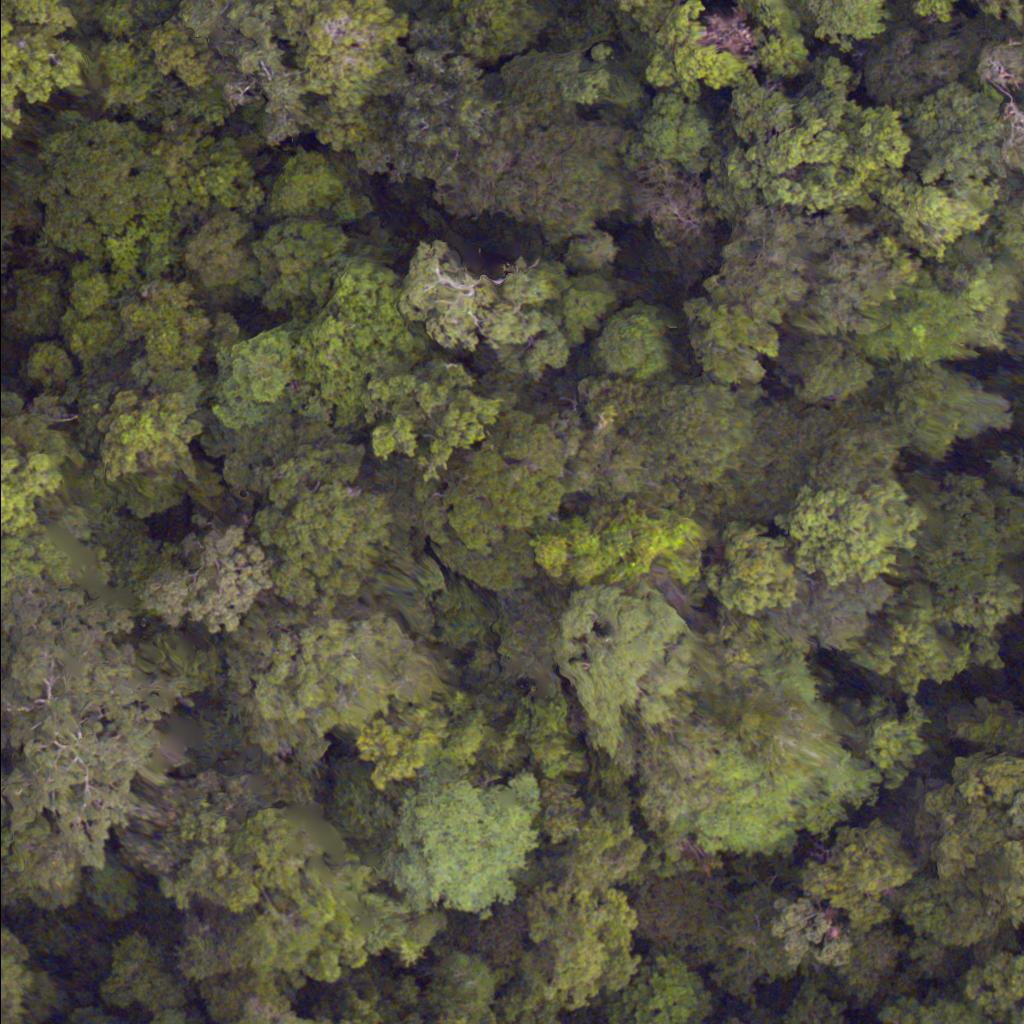crown: (0, 570, 188, 877), (147, 805, 429, 994), (639, 640, 847, 866), (232, 594, 449, 783), (355, 11, 527, 227), (721, 50, 901, 215), (10, 110, 180, 263), (409, 405, 572, 558), (403, 764, 560, 918), (306, 269, 439, 427), (178, 0, 313, 150), (504, 112, 635, 263), (516, 494, 708, 592), (781, 479, 935, 600), (573, 599, 689, 758), (367, 352, 505, 485), (406, 238, 554, 357), (0, 0, 99, 175), (83, 397, 225, 516), (149, 523, 290, 638), (510, 890, 630, 1021), (799, 836, 913, 938), (708, 513, 804, 629), (253, 212, 354, 307), (266, 151, 372, 226), (0, 433, 76, 534), (598, 293, 681, 385), (610, 959, 713, 1023), (966, 965, 1023, 1023), (882, 997, 993, 1023), (250, 996, 338, 1023)
